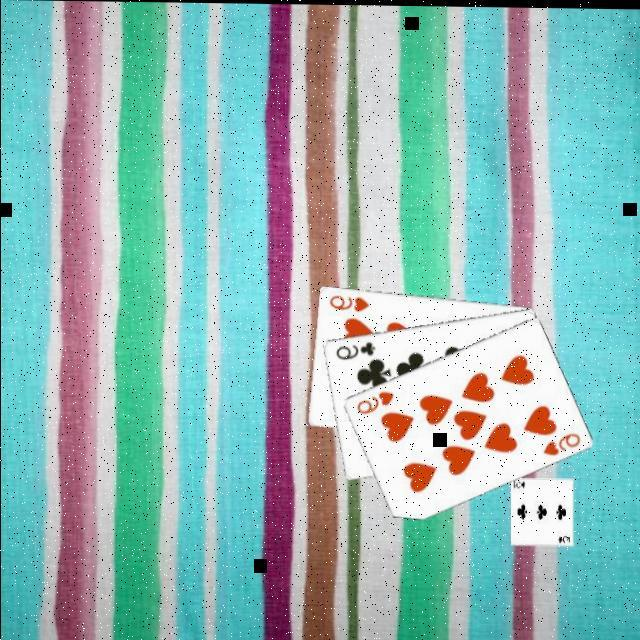9C: (333, 338, 379, 363)
9H: (540, 429, 584, 459), (354, 388, 396, 418), (327, 292, 372, 315)
